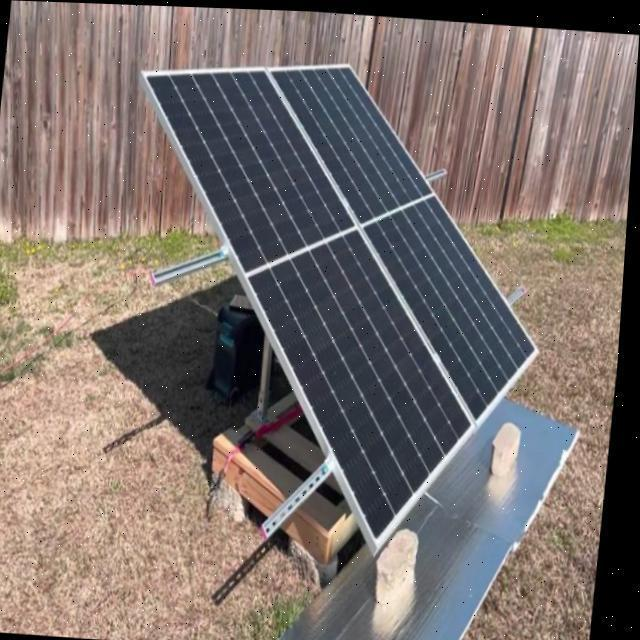Normal Solar Panel: (106, 52, 564, 557)
